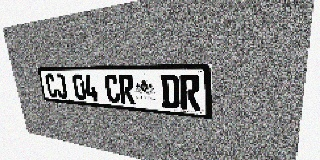0: (72, 74, 87, 100)
4: (83, 74, 99, 101)
C: (104, 74, 121, 103), (45, 74, 58, 98)
D: (160, 74, 180, 109)
J: (54, 74, 68, 99)
R: (179, 75, 201, 111), (118, 74, 136, 105)
